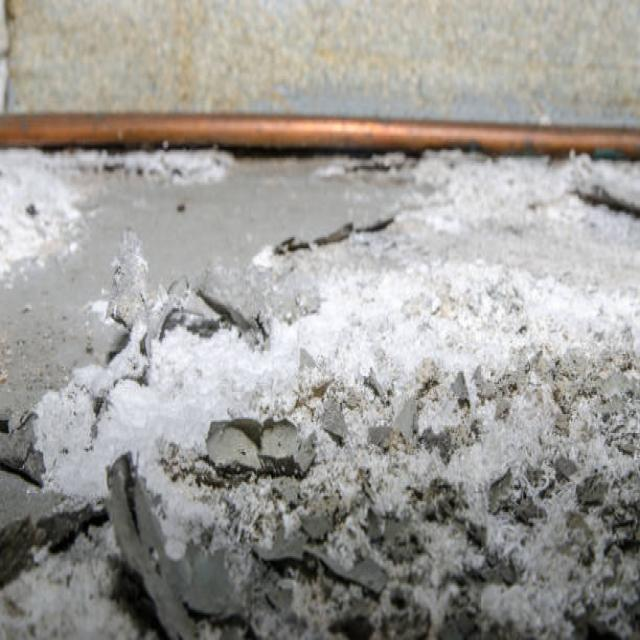efflorescence: (7, 158, 639, 639), (1, 149, 239, 267)
